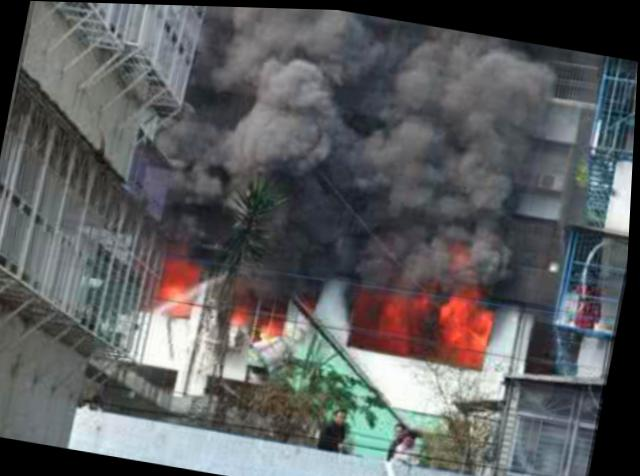fire: (437, 285, 499, 363), (357, 286, 424, 346), (157, 253, 201, 316), (228, 295, 257, 321), (262, 312, 282, 329)
smoke: (169, 4, 567, 289)
